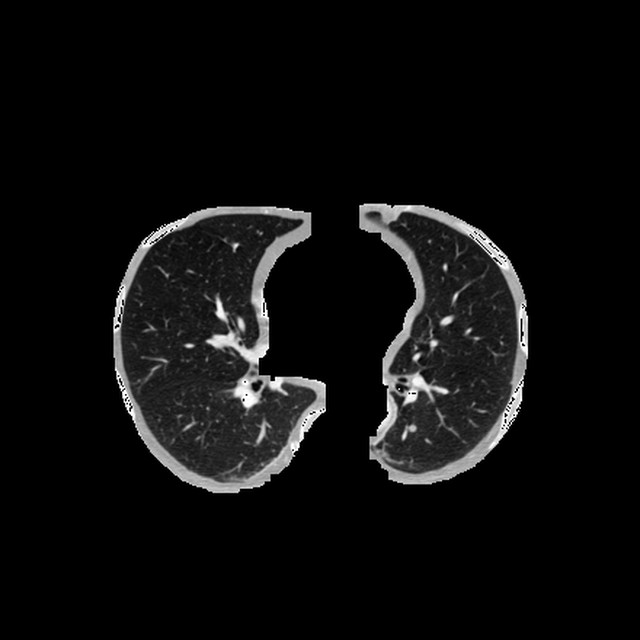PN: (407, 423, 416, 432)
